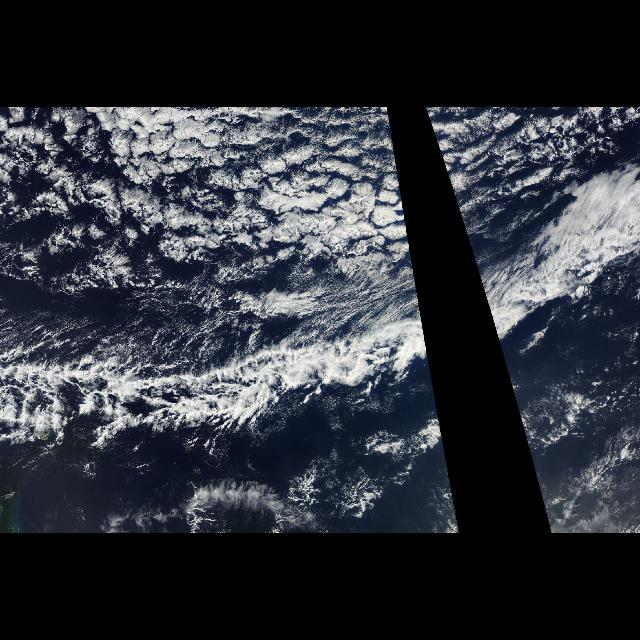Fish: (0, 162, 458, 522), (442, 162, 634, 436)
Flower: (1, 108, 420, 288), (424, 108, 474, 258)
